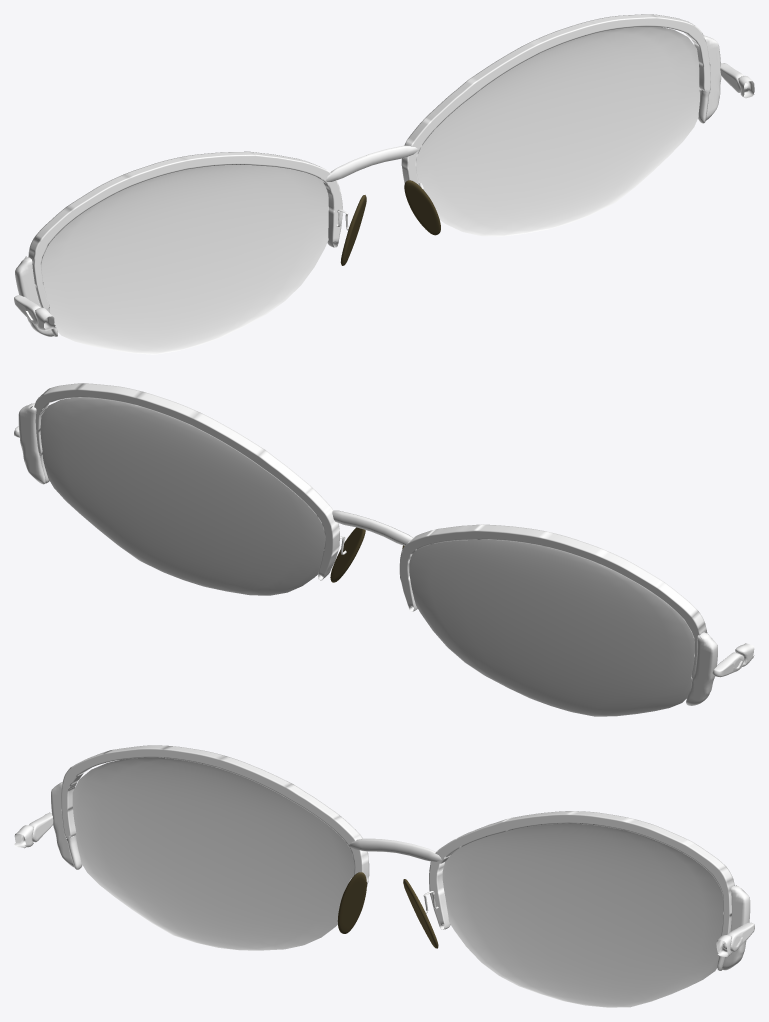
The model's file is megane.fbx.
The picture shows the model from 3 angles, top to bottom: view 1: azimuth 30°, elevation 25°; view 2: azimuth 150°, elevation 25°; view 3: azimuth 330°, elevation 25°; orthographic projection.
Parts seen in each view (by area): view 1: frame11; view 2: frame11; view 3: frame11.
Part boxes in pixels (left/top/right/bottom): frame11: left=14, top=14, right=754, bottom=354; frame11: left=14, top=383, right=754, bottom=716; frame11: left=14, top=745, right=754, bottom=1007.
Bounding box in the file's own units: 11.93 × 3.53 × 1.13.
